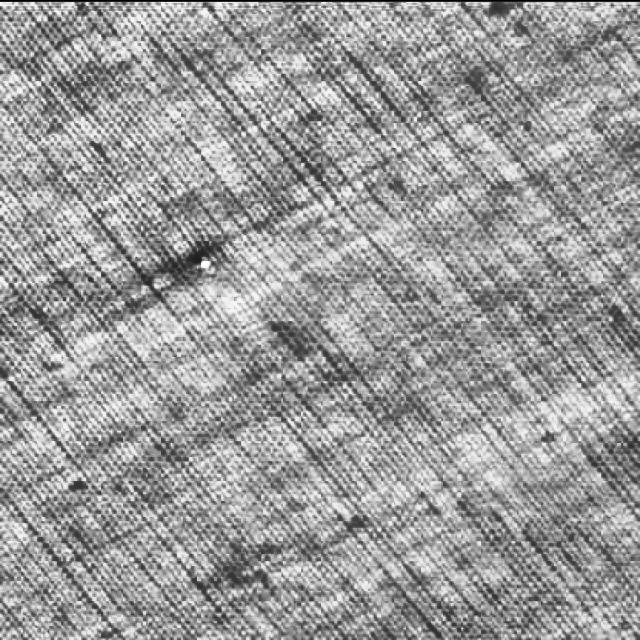hole: (185, 244, 223, 277)
